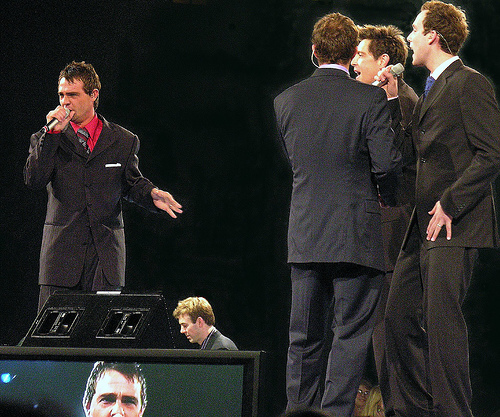without_mask: (406, 7, 447, 69), (352, 34, 393, 89), (56, 76, 99, 120), (177, 310, 211, 343)
